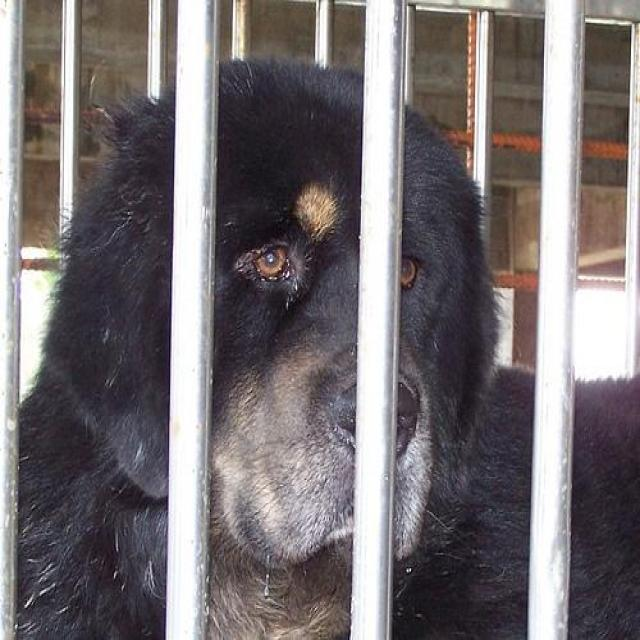sad: (60, 54, 525, 582)
